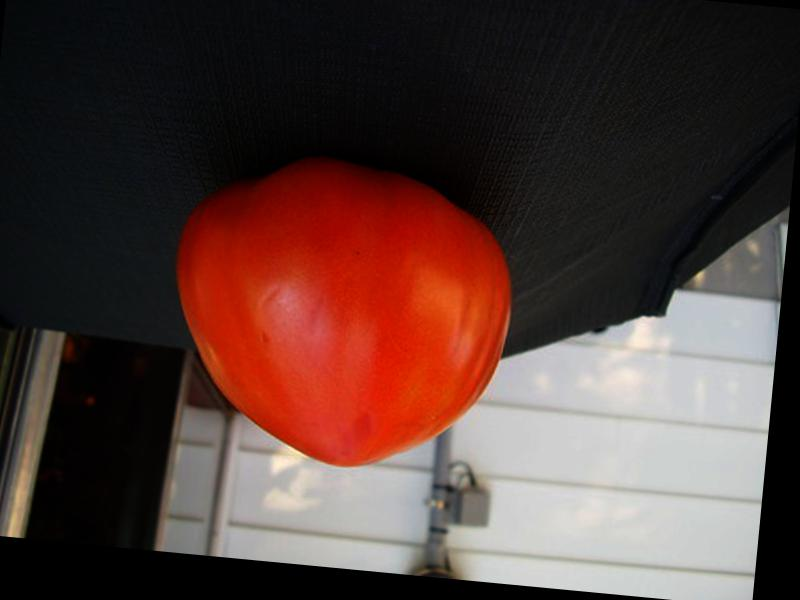Tomato: (158, 146, 523, 482)
